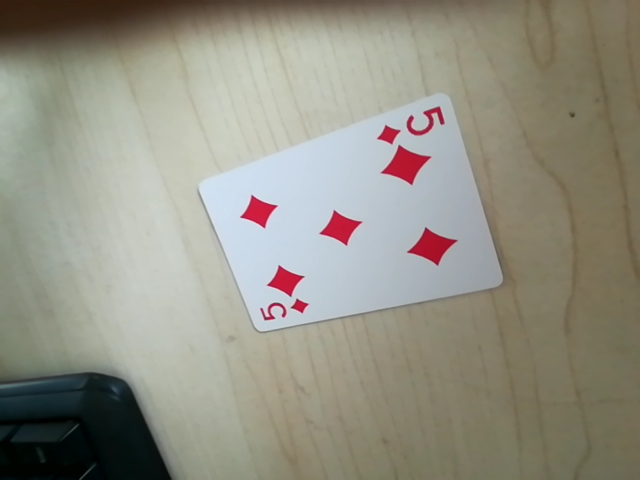fk 5: (374, 102, 449, 147), (256, 293, 314, 326)
